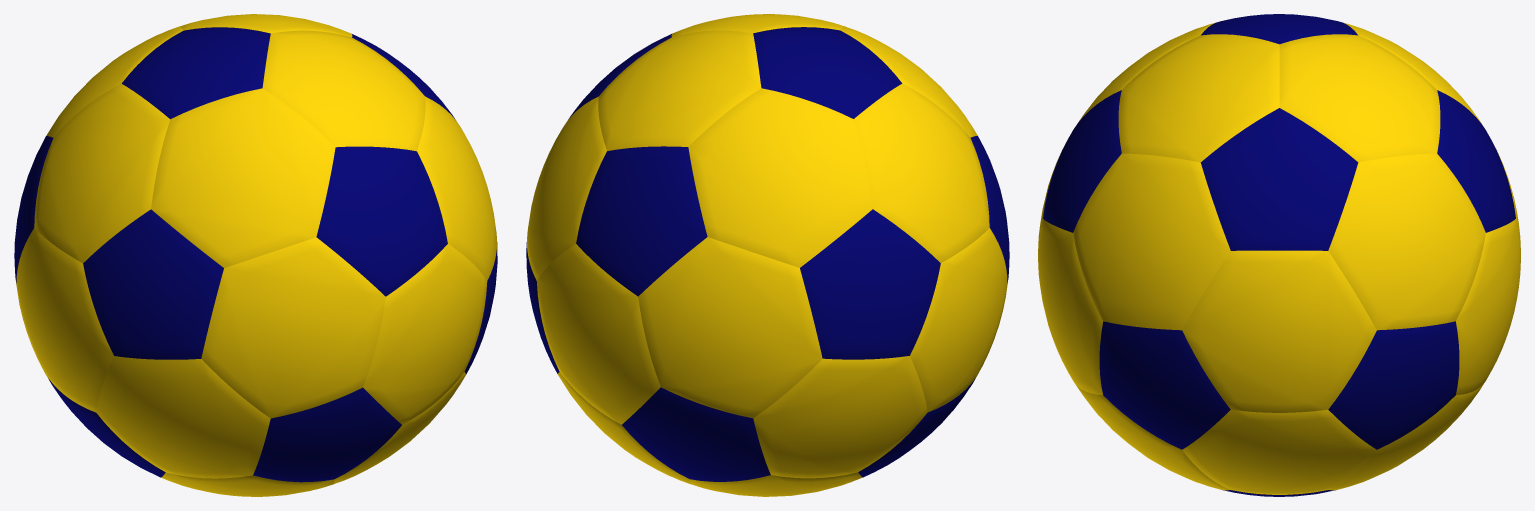
The model's file is Ball.fbx.
The picture shows the model from 3 angles, left to right: view 1: azimuth 30°, elevation 25°; view 2: azimuth 150°, elevation 25°; view 3: azimuth 270°, elevation 25°; orthographic projection.
Parts seen in each view (by area): view 1: Ball; view 2: Ball; view 3: Ball.
Part boxes in pixels (<box>): Ball: <box>14,14,497,496</box>; Ball: <box>526,14,1009,496</box>; Ball: <box>1038,14,1520,496</box>.
Size of the model in its own units: 0.9958 by 0.997 by 0.9966.
